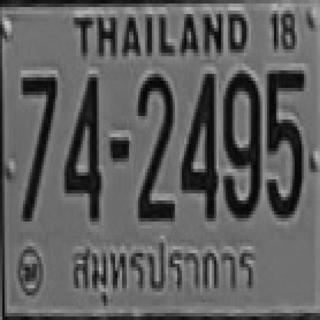N00: (221, 69, 258, 216)
N02: (136, 72, 173, 220), (136, 72, 173, 209)
N04: (180, 70, 216, 218), (62, 74, 99, 218)
N05: (265, 67, 304, 215)
N07: (20, 74, 56, 218), (21, 74, 55, 176)
N09: (221, 69, 258, 216)
P57: (68, 236, 261, 308)
